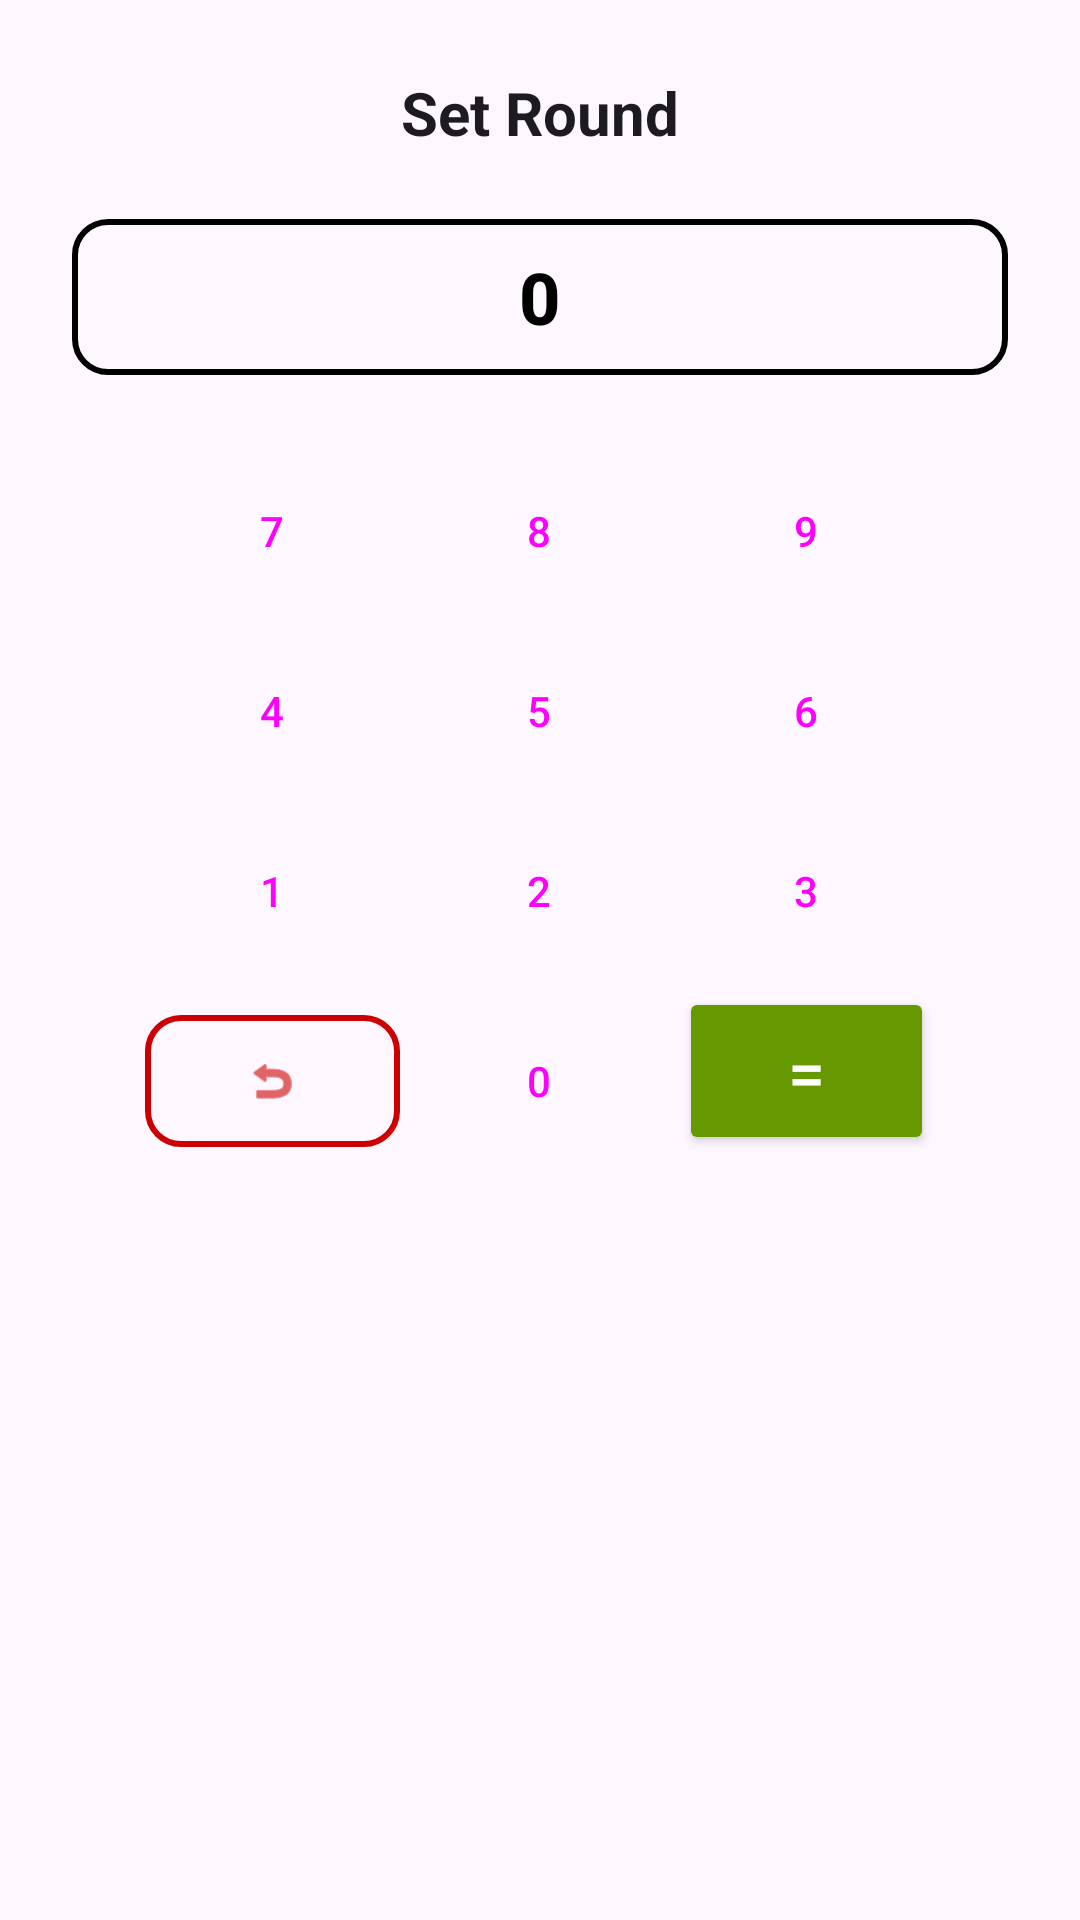

Screen size 1080 x 1920. Icon name, then its center in pixels as [x,y]:
revert: [272,1081]
